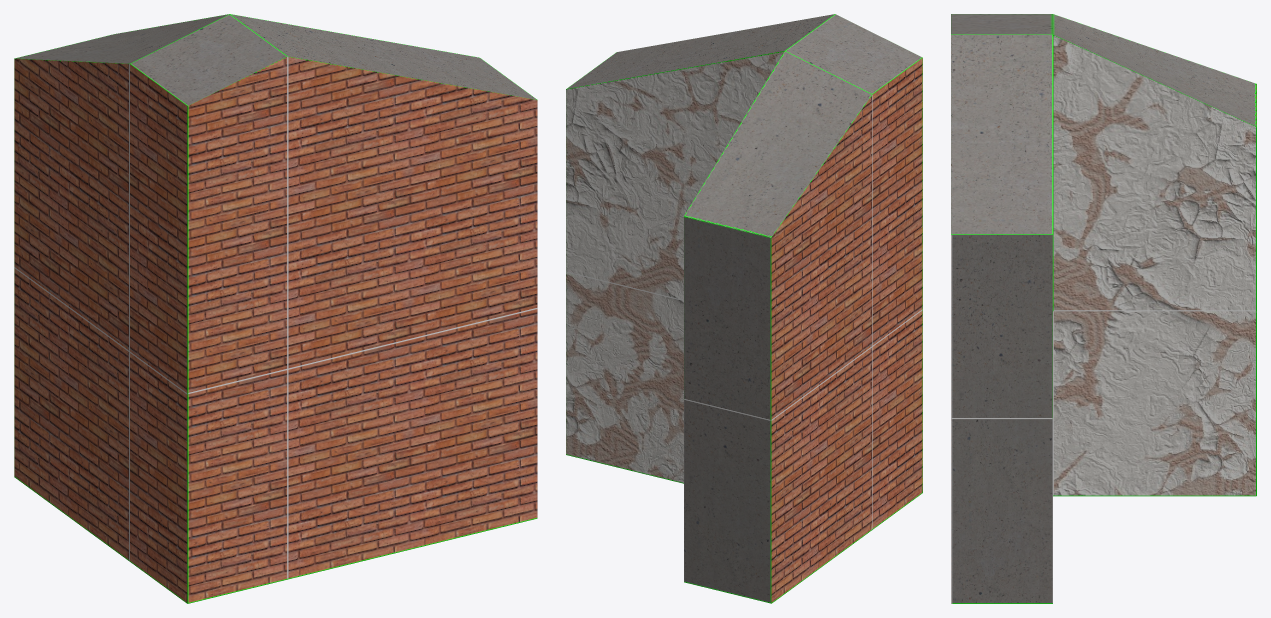
The model's file is House1RuinCorner.fbx.
3 views of the same model, side by side, from view 1: azimuth 30°, elevation 25°; view 2: azimuth 150°, elevation 25°; view 3: azimuth 270°, elevation 25° (orthographic). The views are drawn at different scales.
Visible parts, largest first — view 1: House1RuinCorner; view 2: House1RuinCorner; view 3: House1RuinCorner.
Part boxes in pixels (x1,y1,x2,y2): House1RuinCorner: (14, 14, 537, 603); House1RuinCorner: (566, 14, 922, 603); House1RuinCorner: (951, 14, 1256, 603).
Size of the model in its own units: 1.75 by 2.5 by 1.5.
Materials: 1 (1 with a texture image).
